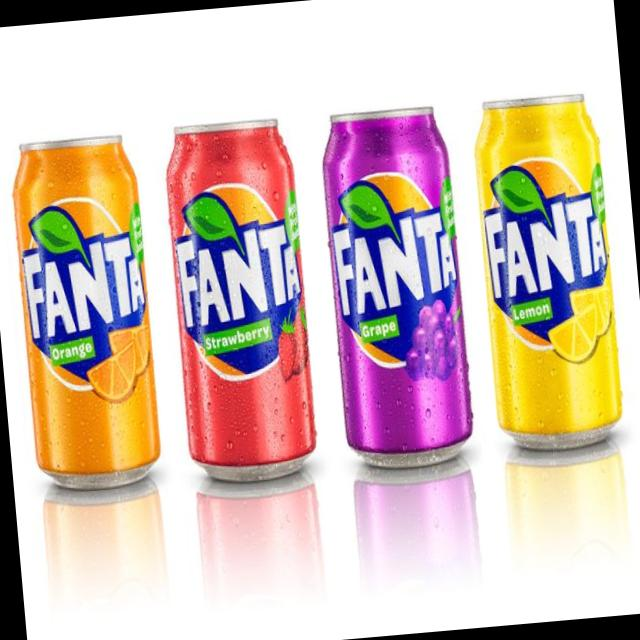fanta: (9, 127, 163, 496)
